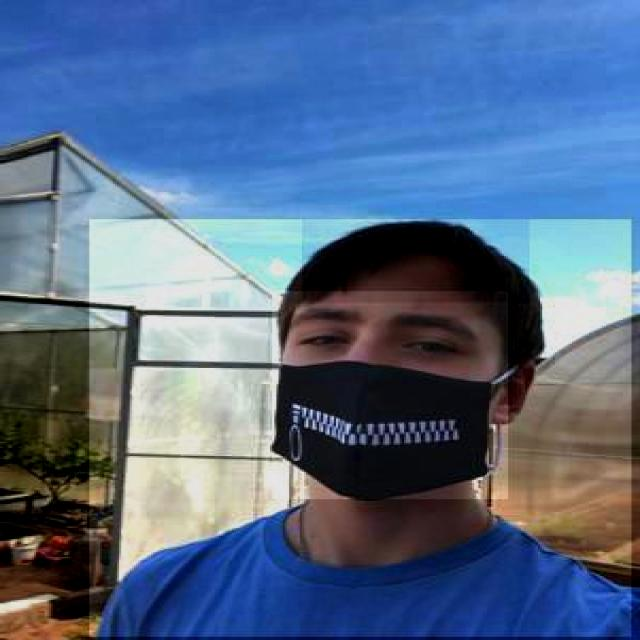face_mask: (272, 291, 508, 499)
head_nohelmet: (302, 220, 529, 302)
person: (87, 220, 632, 638)
